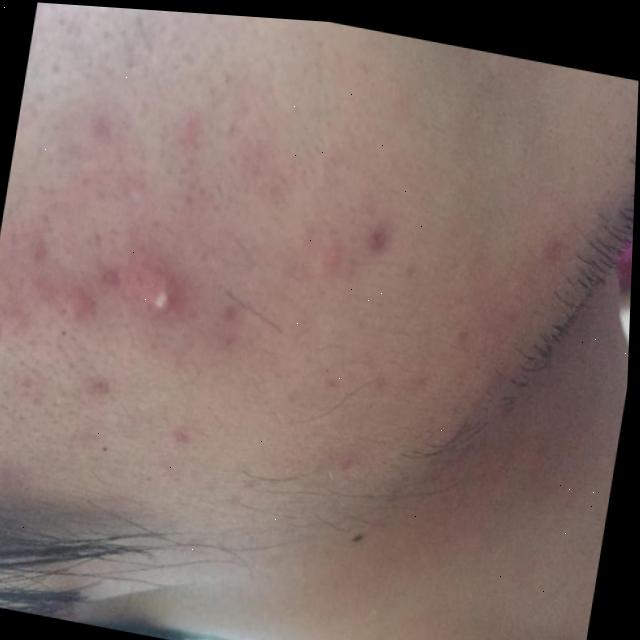Acne: (0, 141, 413, 460)
